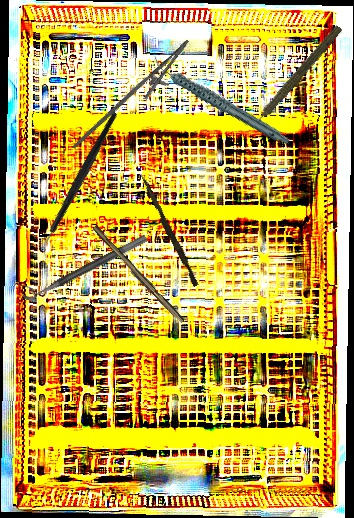Chopper: (2, 111, 158, 261)
Fixation Ring: (17, 224, 149, 304)
Handpiece: (149, 31, 292, 171), (243, 21, 345, 135)
Needle Holder: (71, 26, 199, 170)
Pusher: (135, 172, 202, 288)
Scalpel Handle: (89, 224, 187, 326)
